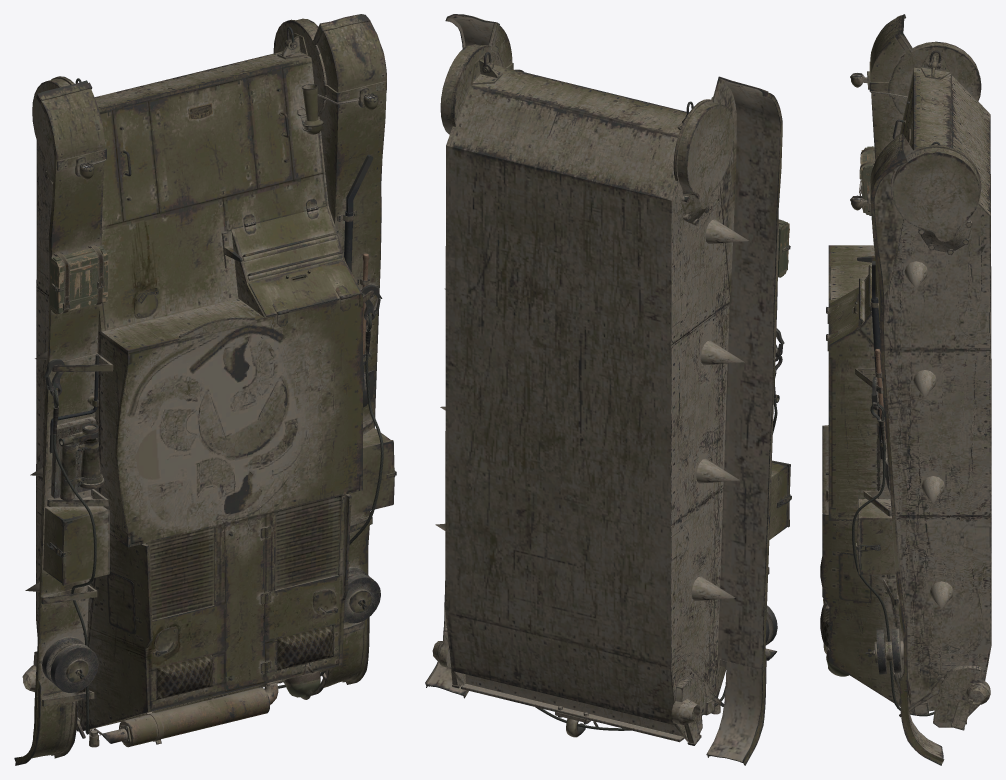
File: Hull.glb
3 views of the same model, side by side, from view 1: azimuth 30°, elevation 25°; view 2: azimuth 150°, elevation 25°; view 3: azimuth 270°, elevation 25° (orthographic). The views are drawn at different scales.
Parts seen in each view (by area): view 1: set_0_group_0; view 2: set_0_group_0; view 3: set_0_group_0.
Part boxes in pixels (x1,y1,x2,y2): set_0_group_0: (14,14,396,765); set_0_group_0: (425,14,791,765); set_0_group_0: (820,14,991,765).
Size of the model in its own units: 2.37 by 4.59 by 1.16.
Materials: 1 (1 with a texture image).
